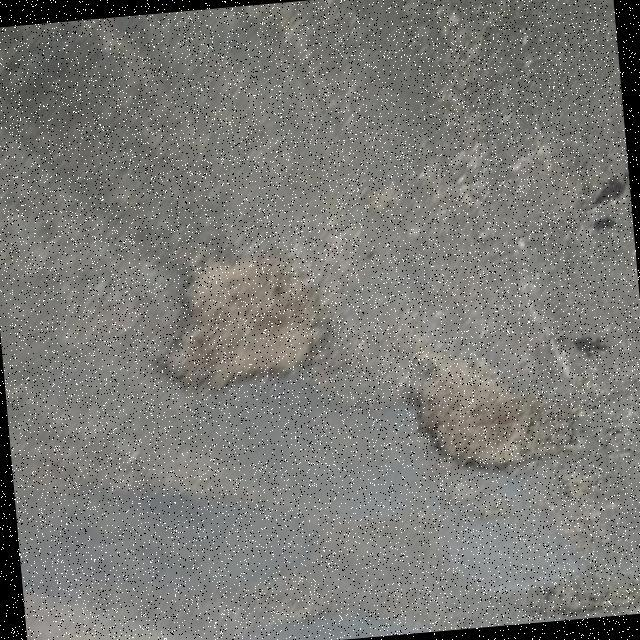Pothole: (158, 251, 322, 396), (408, 347, 535, 471)
